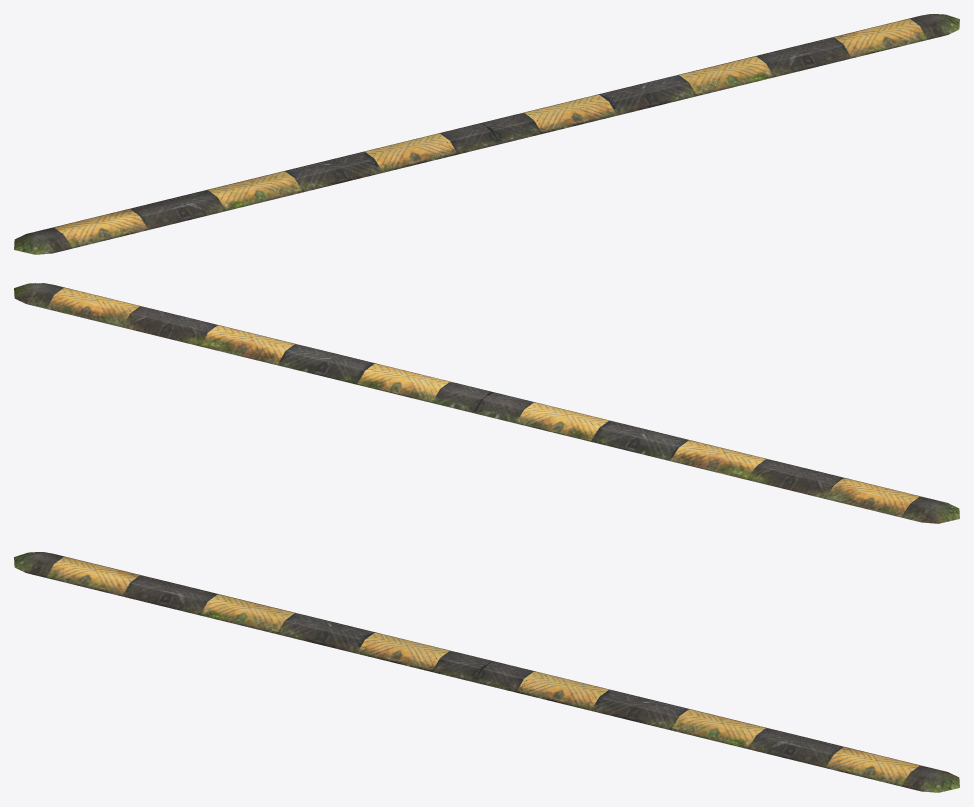
File: Cover_QiangDj01.glb
The picture shows the model from 3 angles, top to bottom: view 1: azimuth 30°, elevation 25°; view 2: azimuth 150°, elevation 25°; view 3: azimuth 330°, elevation 25°; orthographic projection.
Parts seen in each view (by area): view 1: xiutz_qiang_dj01; view 2: xiutz_qiang_dj01; view 3: xiutz_qiang_dj01.
Part boxes in pixels (x1,y1,x2,y2): xiutz_qiang_dj01: (14, 14, 959, 254); xiutz_qiang_dj01: (14, 283, 959, 523); xiutz_qiang_dj01: (14, 552, 959, 792).
Size of the model in its own units: 12.2 by 0.0948 by 0.5949.
Materials: 1 (1 with a texture image).
